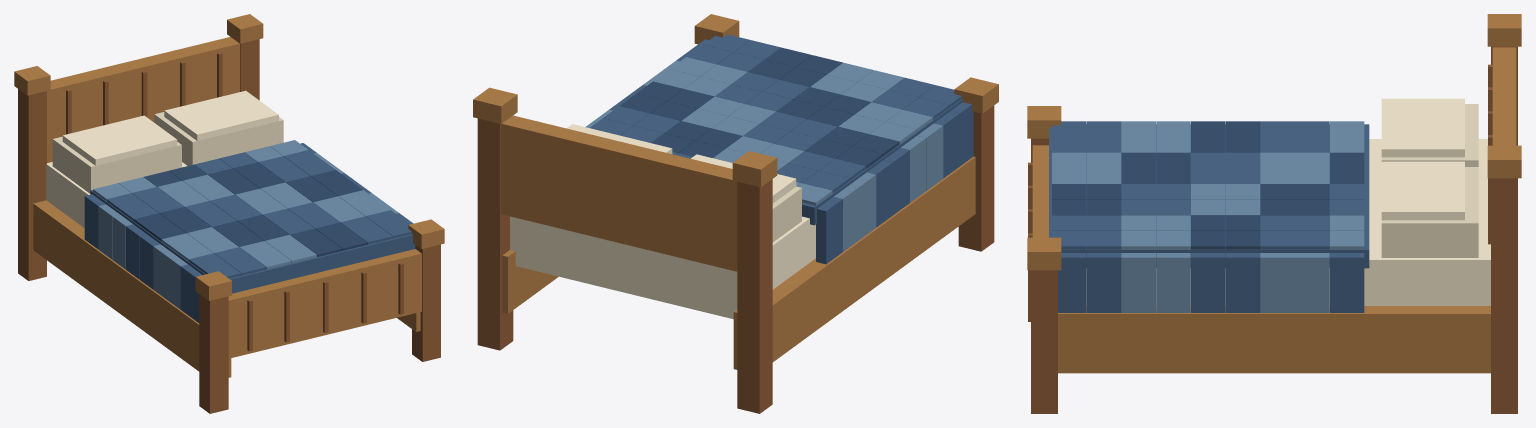
The model's file is reused_bed.glb.
3 views of the same model, side by side, from view 1: azimuth 30°, elevation 25°; view 2: azimuth 150°, elevation 25°; view 3: azimuth 270°, elevation 25° (orthographic). The views are drawn at different scales.
Visible parts, largest first — view 1: bed_frame__wood2.001, bed_frame__blue.001, bed_frame__wood.001, bed_frame__blue2.001, bed_frame__white.001, bed_frame__blue3.001, bed_frame__cream.001; view 2: bed_frame__wood2.001, bed_frame__blue.001, bed_frame__wood.001, bed_frame__blue2.001, bed_frame__white.001, bed_frame__blue3.001, bed_frame__cream.001; view 3: bed_frame__wood2.001, bed_frame__blue.001, bed_frame__blue2.001, bed_frame__white.001, bed_frame__blue3.001, bed_frame__wood.001, bed_frame__cream.001.
Boxes of the visible parts, x1,y1,x2,y2 form: bed_frame__wood2.001: (14, 14, 444, 377); bed_frame__blue.001: (84, 143, 415, 322); bed_frame__wood.001: (18, 39, 440, 413); bed_frame__blue2.001: (93, 140, 398, 309); bed_frame__white.001: (46, 90, 278, 227); bed_frame__blue3.001: (134, 162, 367, 256); bed_frame__cream.001: (52, 112, 283, 193); bed_frame__wood2.001: (473, 14, 998, 369); bed_frame__blue.001: (590, 34, 973, 264); bed_frame__wood.001: (477, 105, 994, 413); bed_frame__blue2.001: (585, 57, 943, 251); bed_frame__white.001: (510, 124, 815, 319); bed_frame__blue3.001: (620, 47, 899, 168); bed_frame__cream.001: (772, 186, 801, 242); bed_frame__wood2.001: (1027, 14, 1521, 373); bed_frame__blue.001: (1049, 121, 1369, 312); bed_frame__blue2.001: (1052, 121, 1364, 312); bed_frame__white.001: (1086, 98, 1490, 305); bed_frame__blue3.001: (1052, 121, 1364, 249); bed_frame__wood.001: (1028, 46, 1517, 413); bed_frame__cream.001: (1381, 104, 1478, 257).
Bounding box in the file's own units: 1.53 × 1.25 × 2.19.
